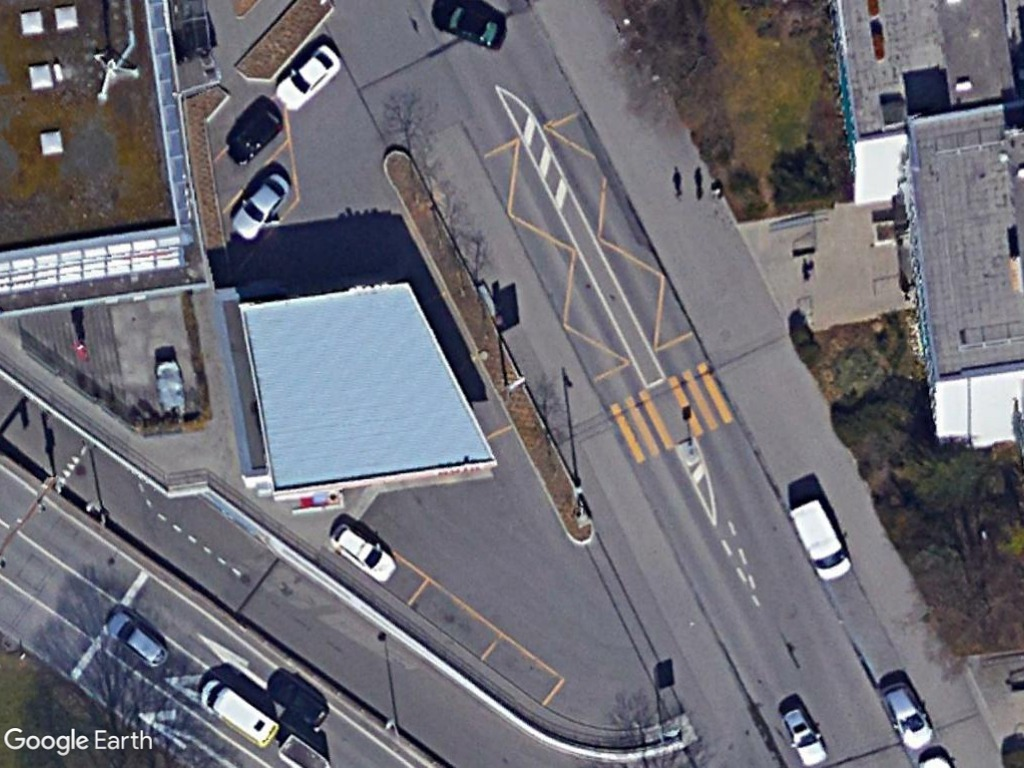car: (230, 170, 295, 242), (275, 42, 343, 110), (875, 678, 936, 753), (325, 522, 397, 585), (103, 610, 173, 672), (777, 705, 828, 768)
van: (194, 677, 283, 751), (782, 494, 853, 585)
